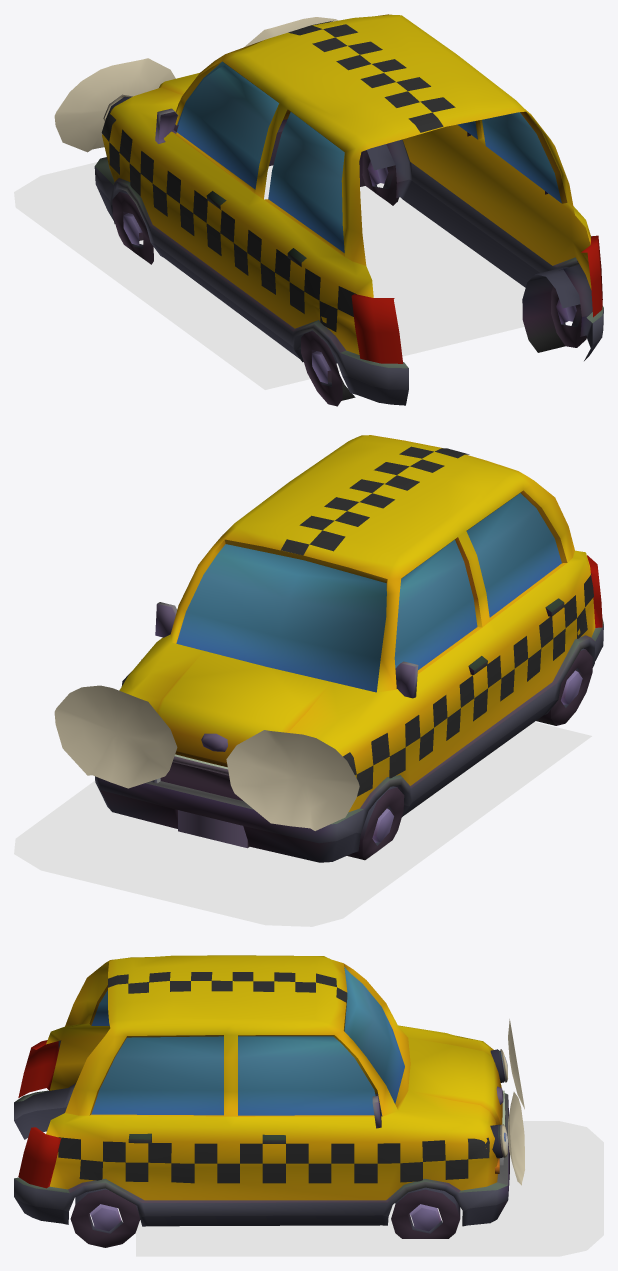
The model's file is City_Single2_Car03.fbx.
3 renders of one model, top to bottom at view 1: azimuth 30°, elevation 25°; view 2: azimuth 150°, elevation 25°; view 3: azimuth 270°, elevation 25°, orthographic. The views are drawn at different scales.
Parts seen in each view (by area): view 1: city_single2_car03, car01Shadow, carLights; view 2: city_single2_car03, car01Shadow, carLights; view 3: city_single2_car03, car01Shadow, carLights.
Part boxes in pixels (box(x1,y1,x2,y2)): city_single2_car03: box(94, 14, 603, 406); car01Shadow: box(14, 162, 525, 389); carLights: box(54, 17, 338, 152); city_single2_car03: box(95, 435, 603, 862); car01Shadow: box(14, 722, 591, 926); carLights: box(54, 685, 359, 830); city_single2_car03: box(14, 955, 509, 1247); car01Shadow: box(136, 1121, 603, 1256); carLights: box(500, 1019, 524, 1185).
Bounding box in the file's own units: 117 × 87.96 × 216.
